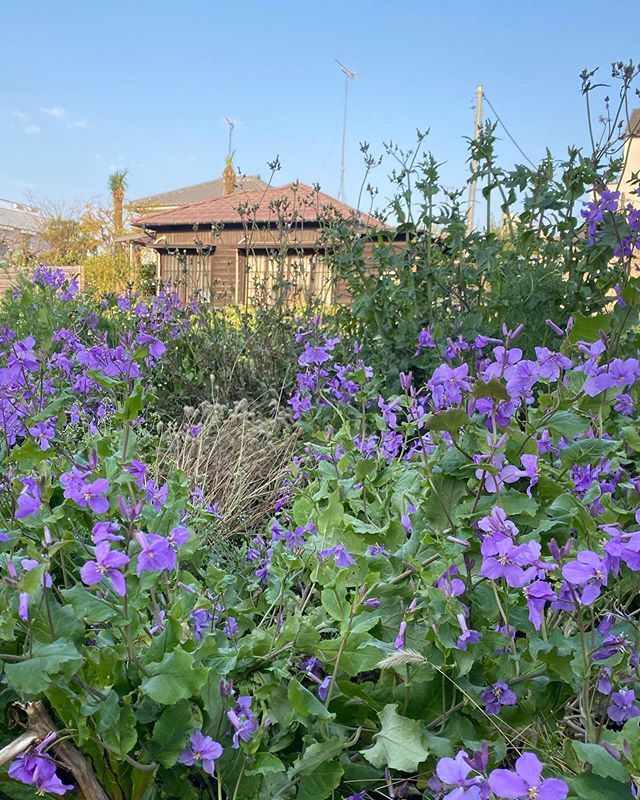building: (142, 165, 393, 303)
flowers: (1, 231, 637, 800)
sky: (17, 1, 640, 202)
